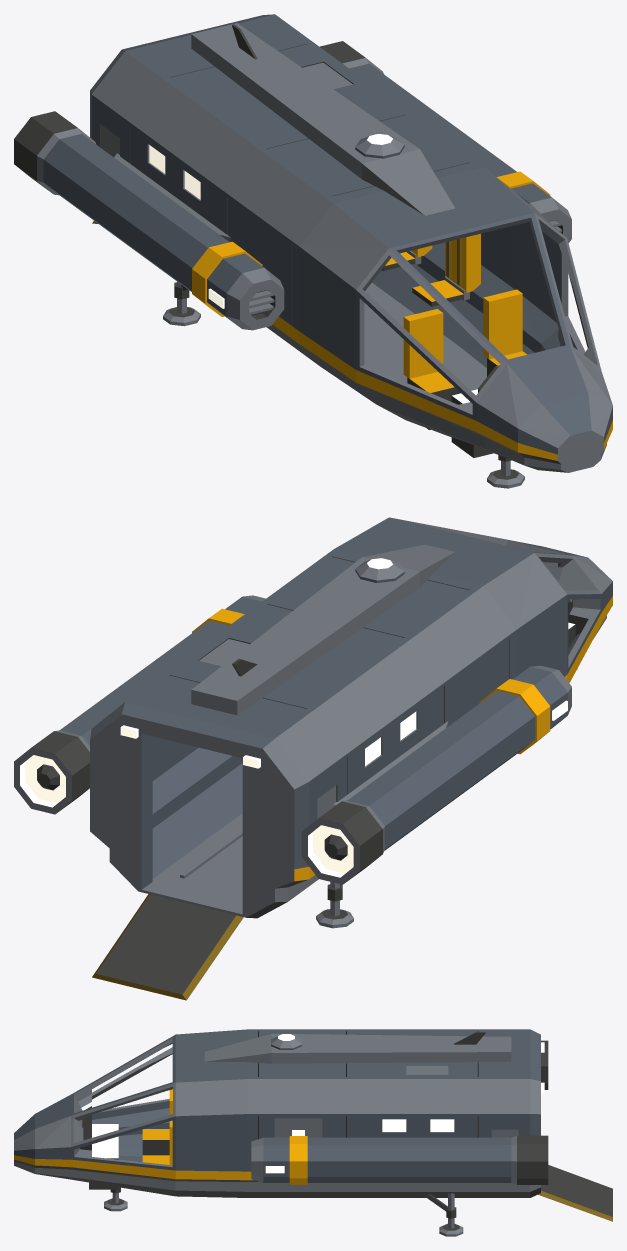
File: petrel_shuttle.glb
3 renders of one model, top to bottom at view 1: azimuth 30°, elevation 25°; view 2: azimuth 150°, elevation 25°; view 3: azimuth 270°, elevation 25°, orthographic. The views are drawn at different scales.
Parts seen in each view (by area): view 1: petrel_shuttle; view 2: petrel_shuttle; view 3: petrel_shuttle.
Boxes of the visible parts, bbox=[...] form: petrel_shuttle: bbox=[14, 14, 612, 488]; petrel_shuttle: bbox=[14, 517, 612, 1000]; petrel_shuttle: bbox=[14, 1029, 612, 1236].
Size of the model in its own units: 4.52 by 3.2 by 10.
